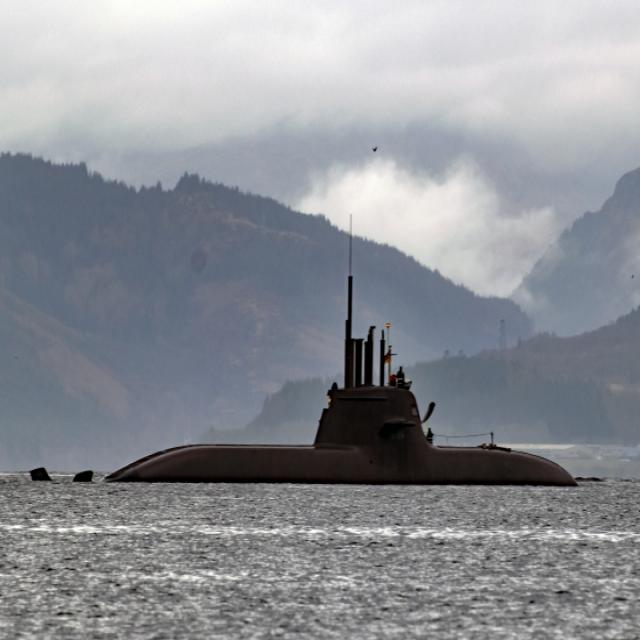submarine: (32, 390, 580, 489)
